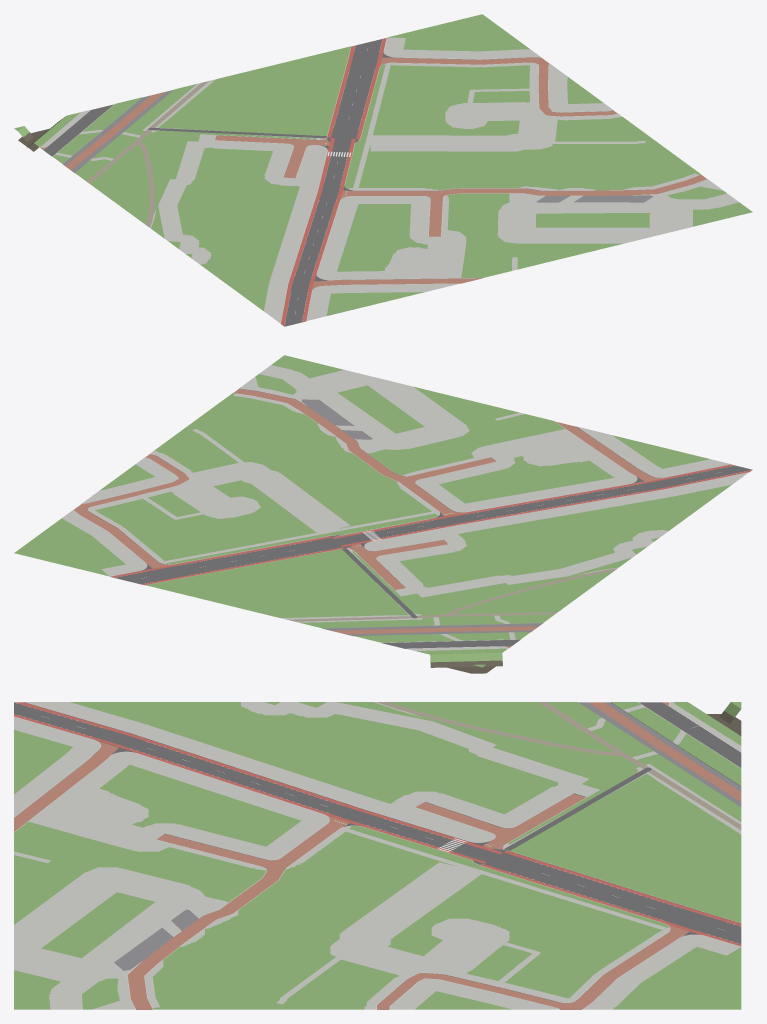
The model's file is ground_6_12.glb.
3 views of the same model, one above another, from view 1: azimuth 30°, elevation 25°; view 2: azimuth 150°, elevation 25°; view 3: azimuth 270°, elevation 25° (orthographic). The views are drawn at different scales.
Parts seen in each view (by area): view 1: ground_6_12; view 2: ground_6_12; view 3: ground_6_12.
Part boxes in pixels (left/top/right/bottom): ground_6_12: left=14, top=14, right=752, bottom=326; ground_6_12: left=14, top=355, right=752, bottom=673; ground_6_12: left=14, top=702, right=741, bottom=1009.
Bounding box in the file's own units: 202 × 3.62 × 203.
